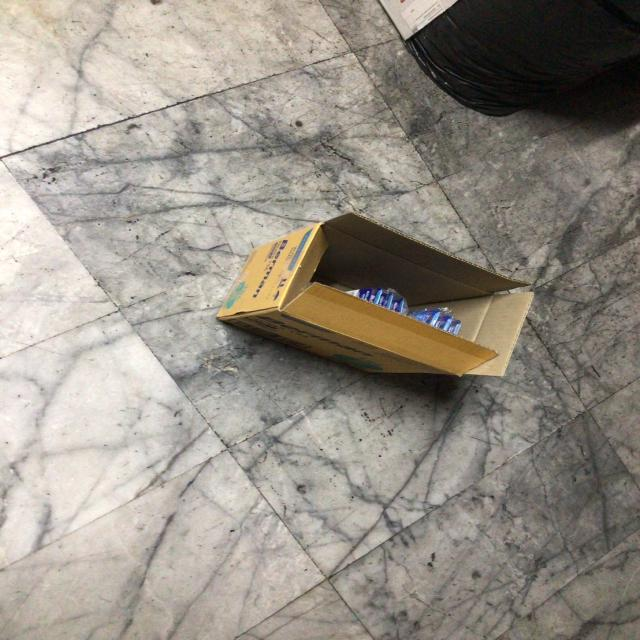cardboard: (218, 216, 532, 376)
